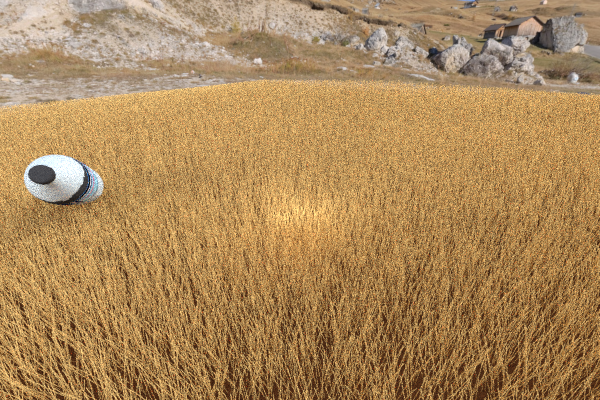bottle: (23, 154, 103, 205)
can: (152, 103, 194, 124)
